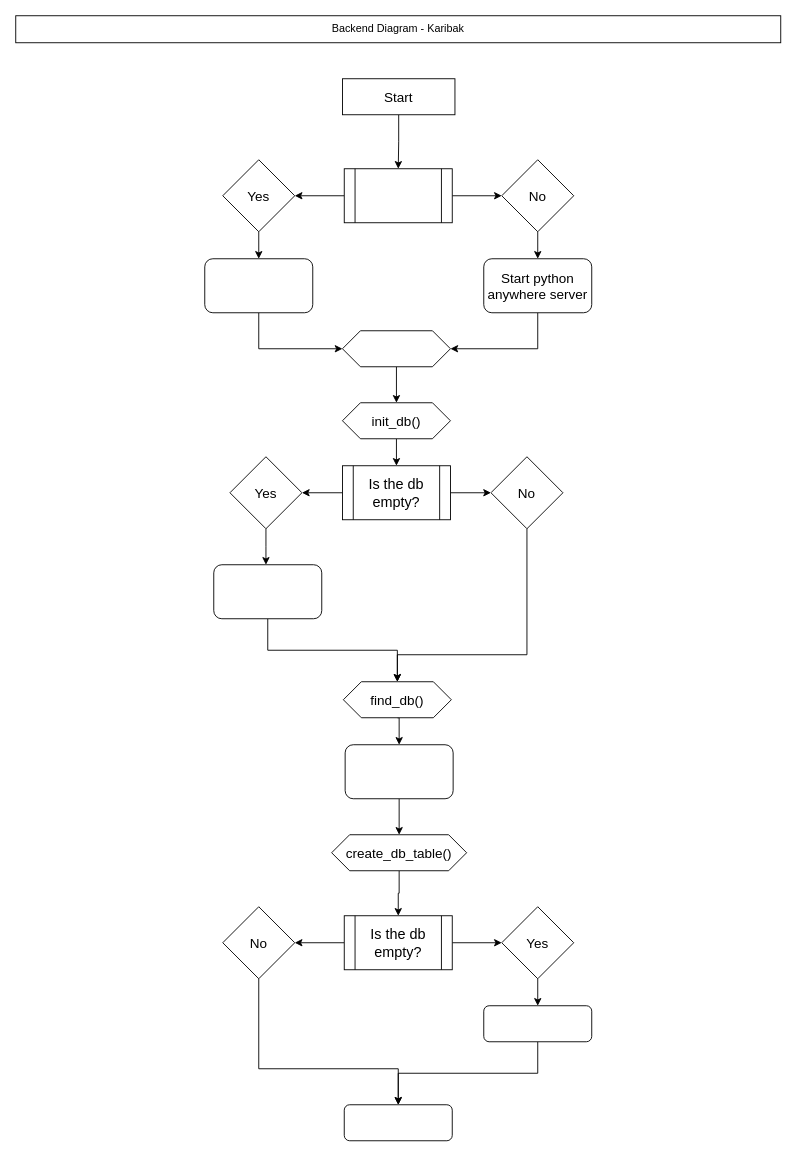
Image size: 797x1157. Some labels were removed from this diagram. The box of each missing label's shape, as (x1, y1, x2, y2) in pixels:
Create table users: (483, 1005, 592, 1042)
Creates an empty DB: (213, 564, 322, 619)
Finds location of db with PRAGMA: (344, 744, 453, 799)
Loads template: (343, 1104, 452, 1141)
Local Server?: (343, 168, 452, 223)
Start server at localhost:8000: (204, 258, 313, 313)
Start(): (342, 330, 450, 367)
